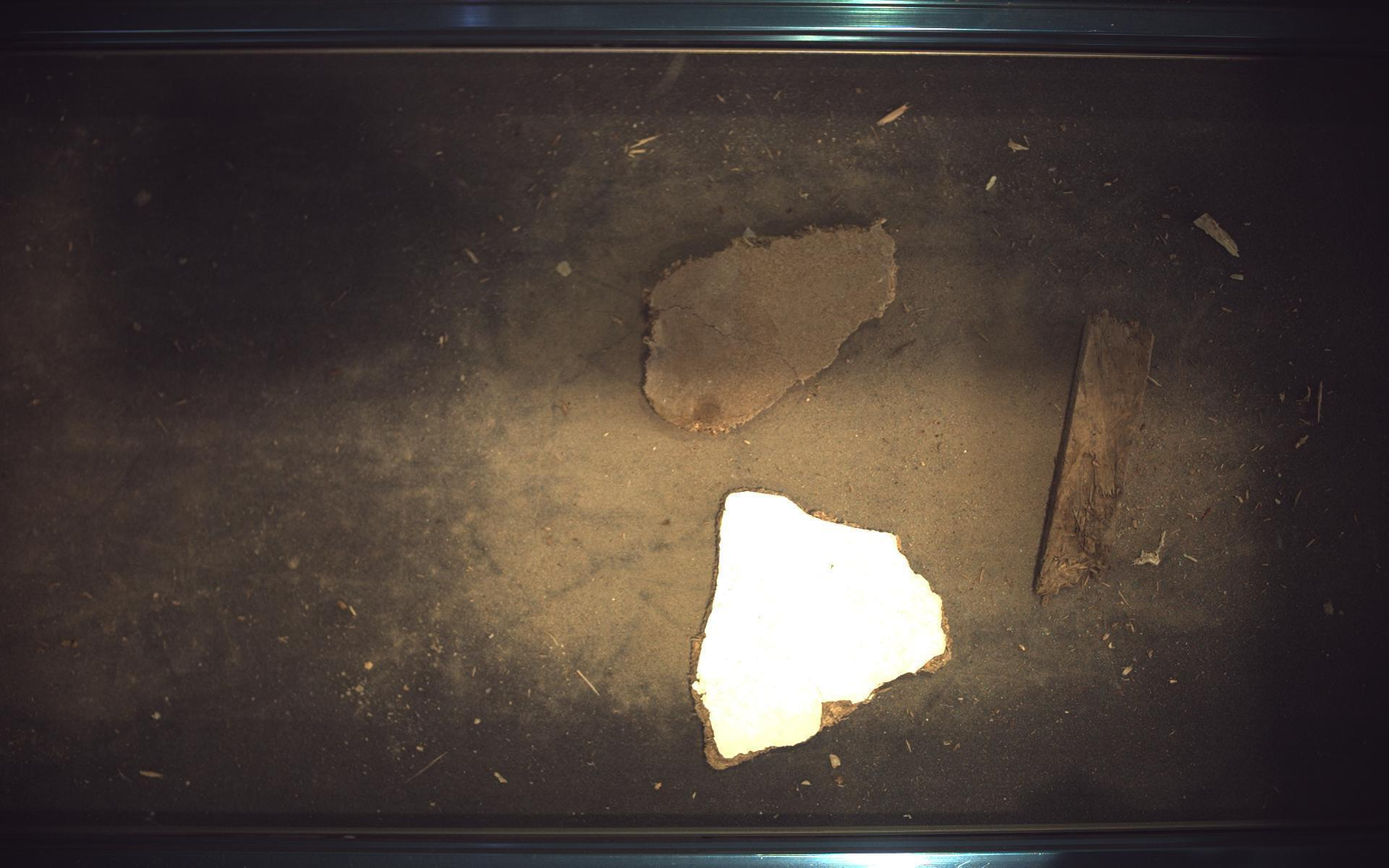wood: (692, 491, 953, 770), (645, 218, 899, 434), (1037, 310, 1156, 598)
